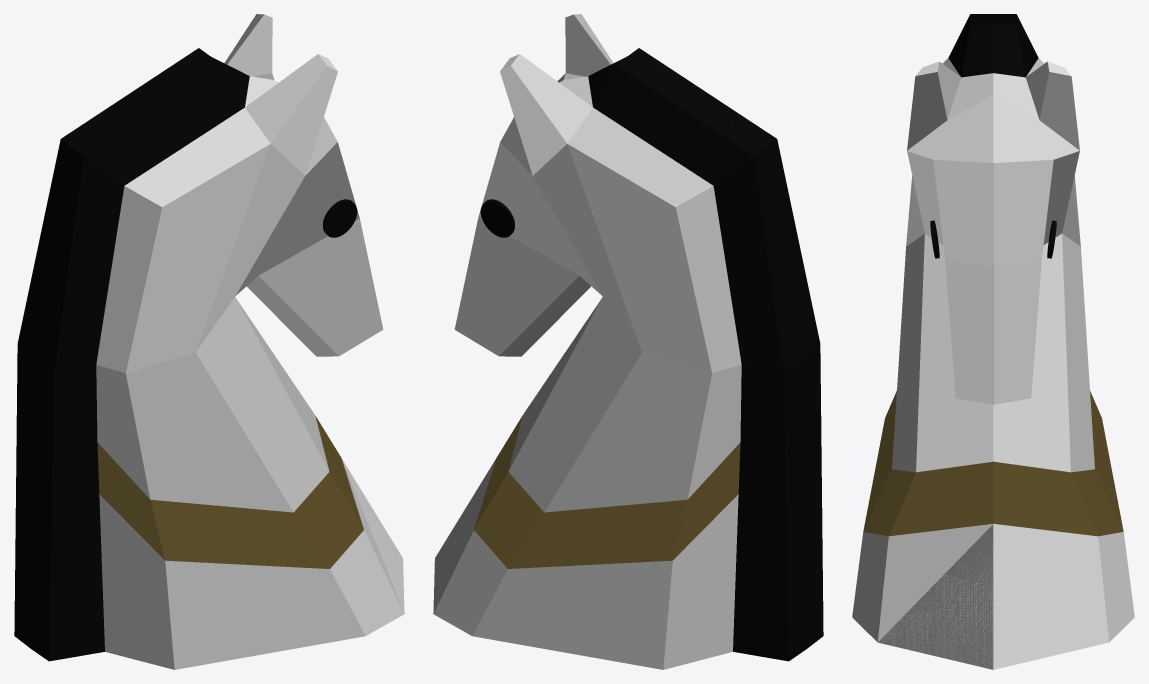
3 renders of one model, left to right at view 1: azimuth 30°, elevation 25°; view 2: azimuth 150°, elevation 25°; view 3: azimuth 270°, elevation 25°, orthographic.
Parts seen in each view (by area): view 1: horse.001; view 2: horse.001; view 3: horse.001.
Part boxes in pixels (x1,y1,x2,y2): horse.001: (14, 14, 404, 669); horse.001: (433, 14, 823, 669); horse.001: (852, 14, 1134, 669).
Size of the model in its own units: 138 by 195 by 90.21.
